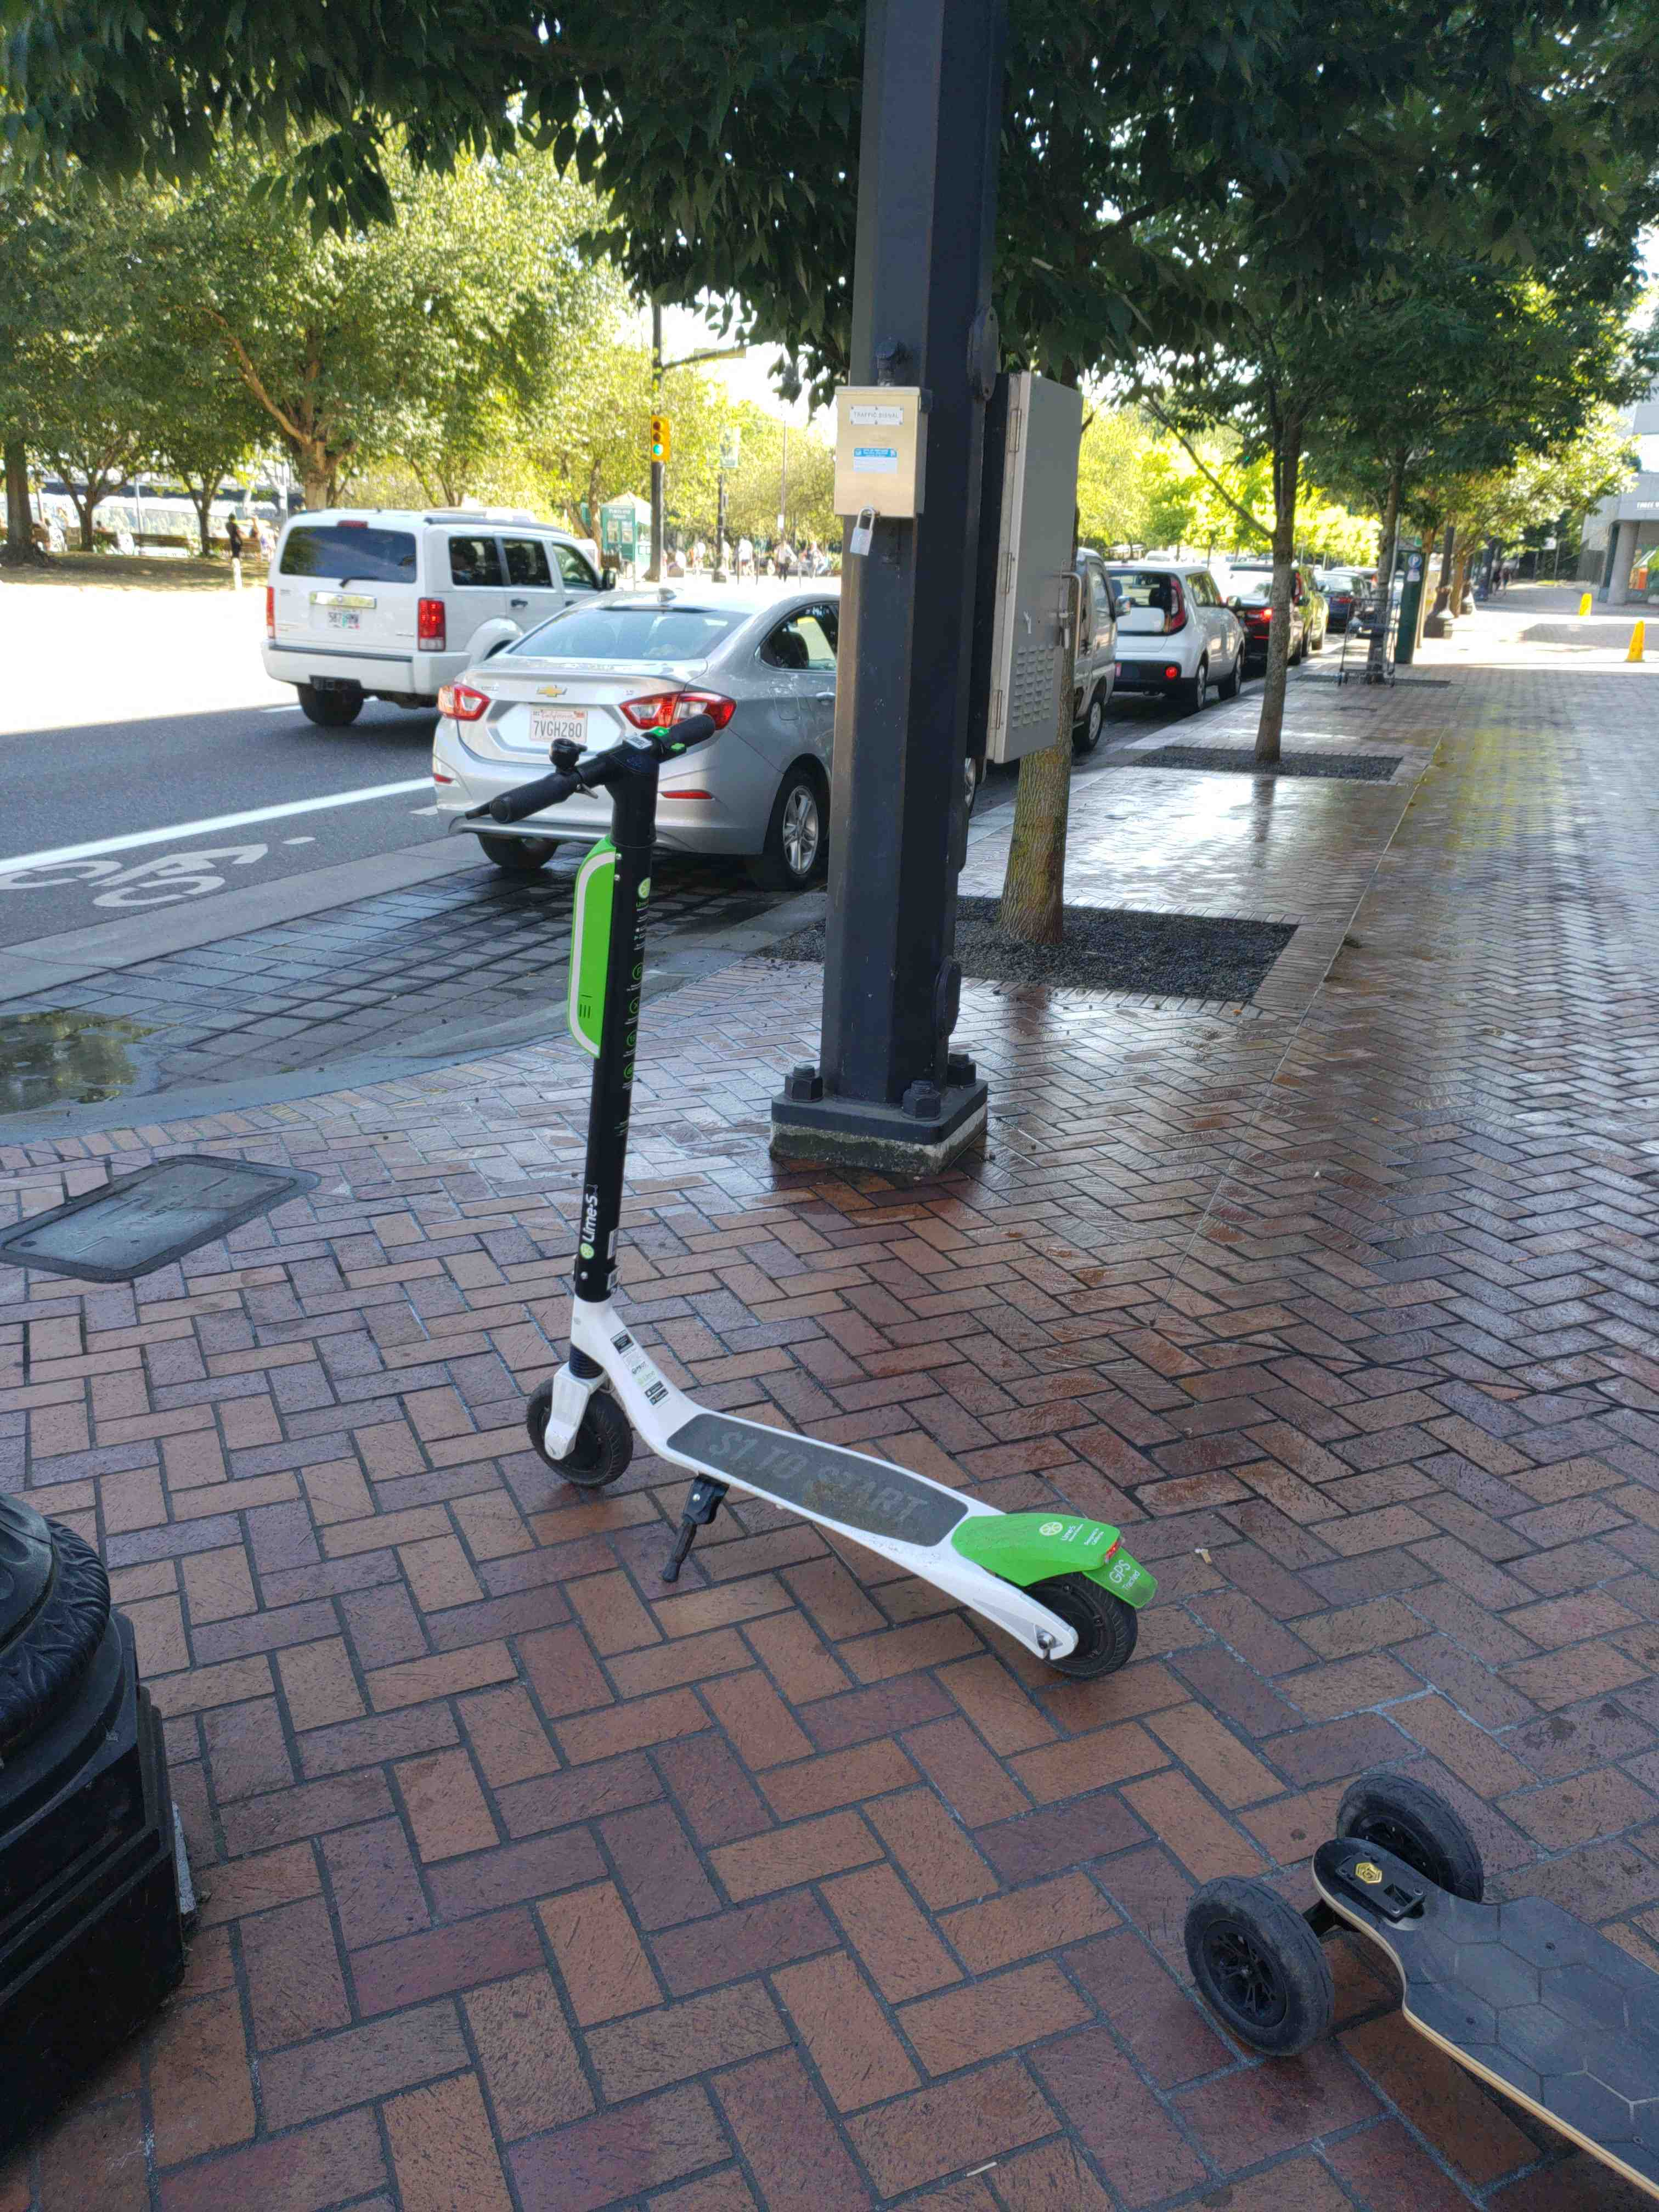scooter: (450, 695, 1169, 1702)
